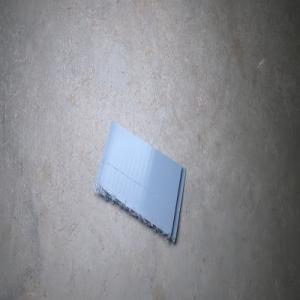PlasticPart: (92, 120, 186, 243)
